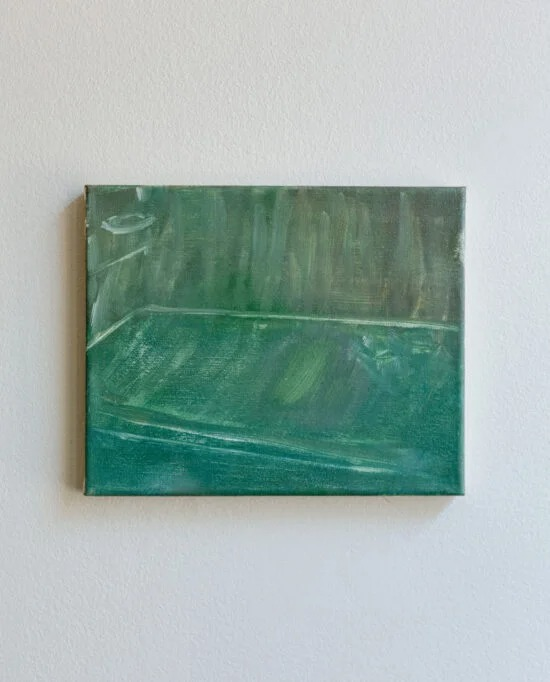painting: (84, 185, 466, 497)
